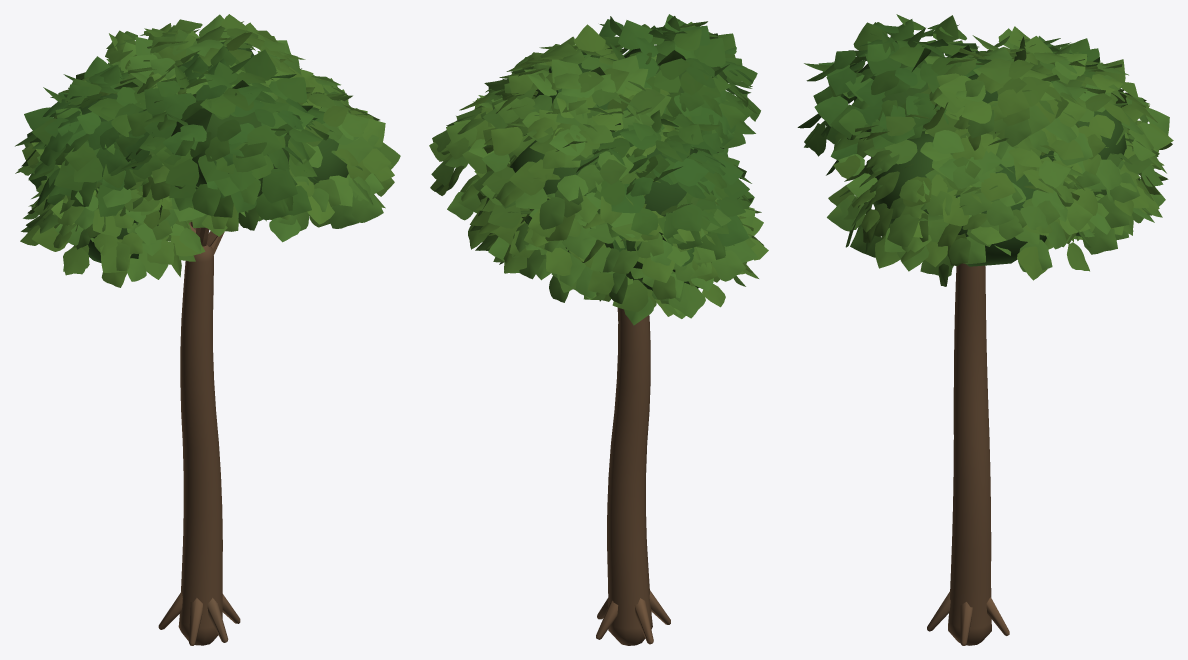
The model's file is tree_garden.glb.
The picture shows the model from 3 angles, left to right: view 1: azimuth 30°, elevation 25°; view 2: azimuth 150°, elevation 25°; view 3: azimuth 270°, elevation 25°; orthographic projection. The views are drawn at different scales.
Parts seen in each view (by area): view 1: Sammel Pflanze, Sammel Holz, Sammel Blatt; view 2: Sammel Pflanze, Sammel Holz, Sammel Blatt; view 3: Sammel Pflanze, Sammel Holz, Sammel Blatt.
Part boxes in pixels (box(x1,y1,x2,y2)): Sammel Pflanze: box(15, 14, 400, 287); Sammel Holz: box(158, 222, 240, 645); Sammel Blatt: box(78, 42, 348, 262); Sammel Pflanze: box(429, 14, 768, 325); Sammel Holz: box(596, 307, 670, 645); Sammel Blatt: box(509, 45, 726, 290); Sammel Pflanze: box(797, 14, 1173, 286); Sammel Holz: box(927, 263, 1009, 645); Sammel Blatt: box(854, 47, 1126, 266).
Bounding box in the file's own units: 2.8 × 5.02 × 2.78.
